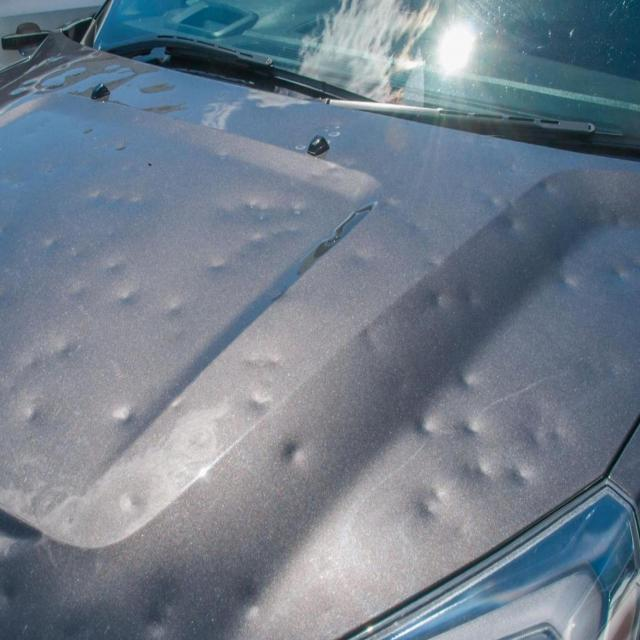dent: (401, 344, 568, 524), (167, 192, 299, 292)
